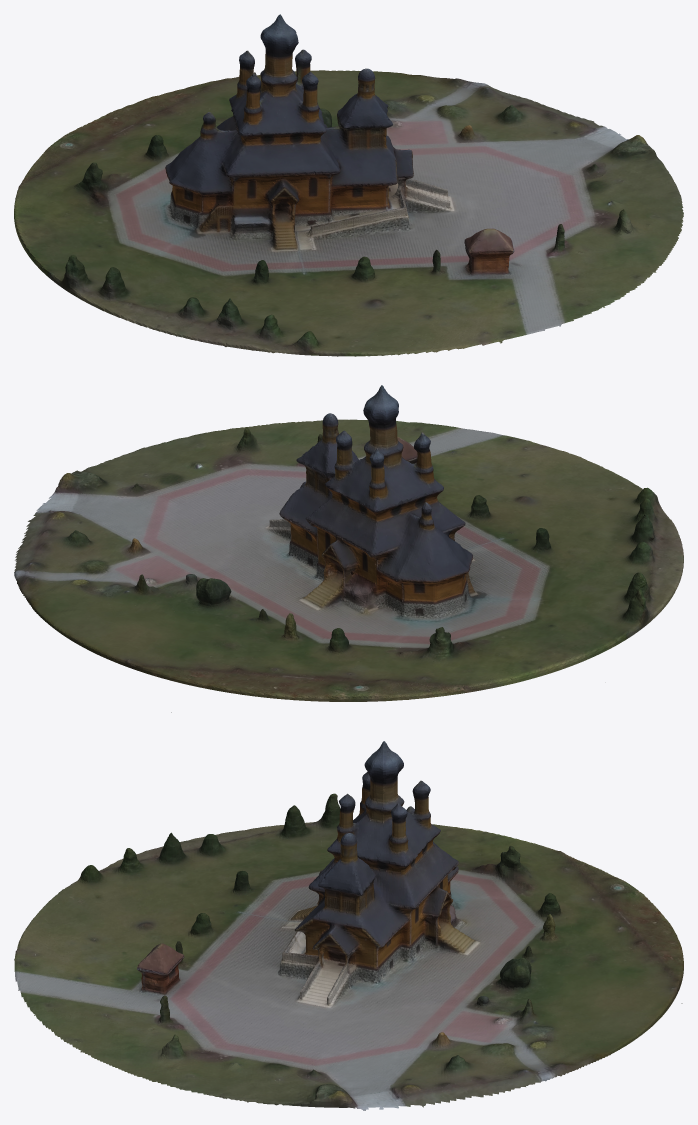
The model's file is Dudutki church.fbx.
3 renders of one model, top to bottom at view 1: azimuth 30°, elevation 25°; view 2: azimuth 150°, elevation 25°; view 3: azimuth 270°, elevation 25°, orthographic.
Parts seen in each view (by area): view 1: Model; view 2: Model; view 3: Model.
Part boxes in pixels (x1,y1,x2,y2): Model: [14, 14, 683, 356]; Model: [14, 385, 683, 712]; Model: [14, 741, 683, 1110].
Size of the model in its own units: 44 by 43.97 by 16.85.
1 material, 1 textured.
